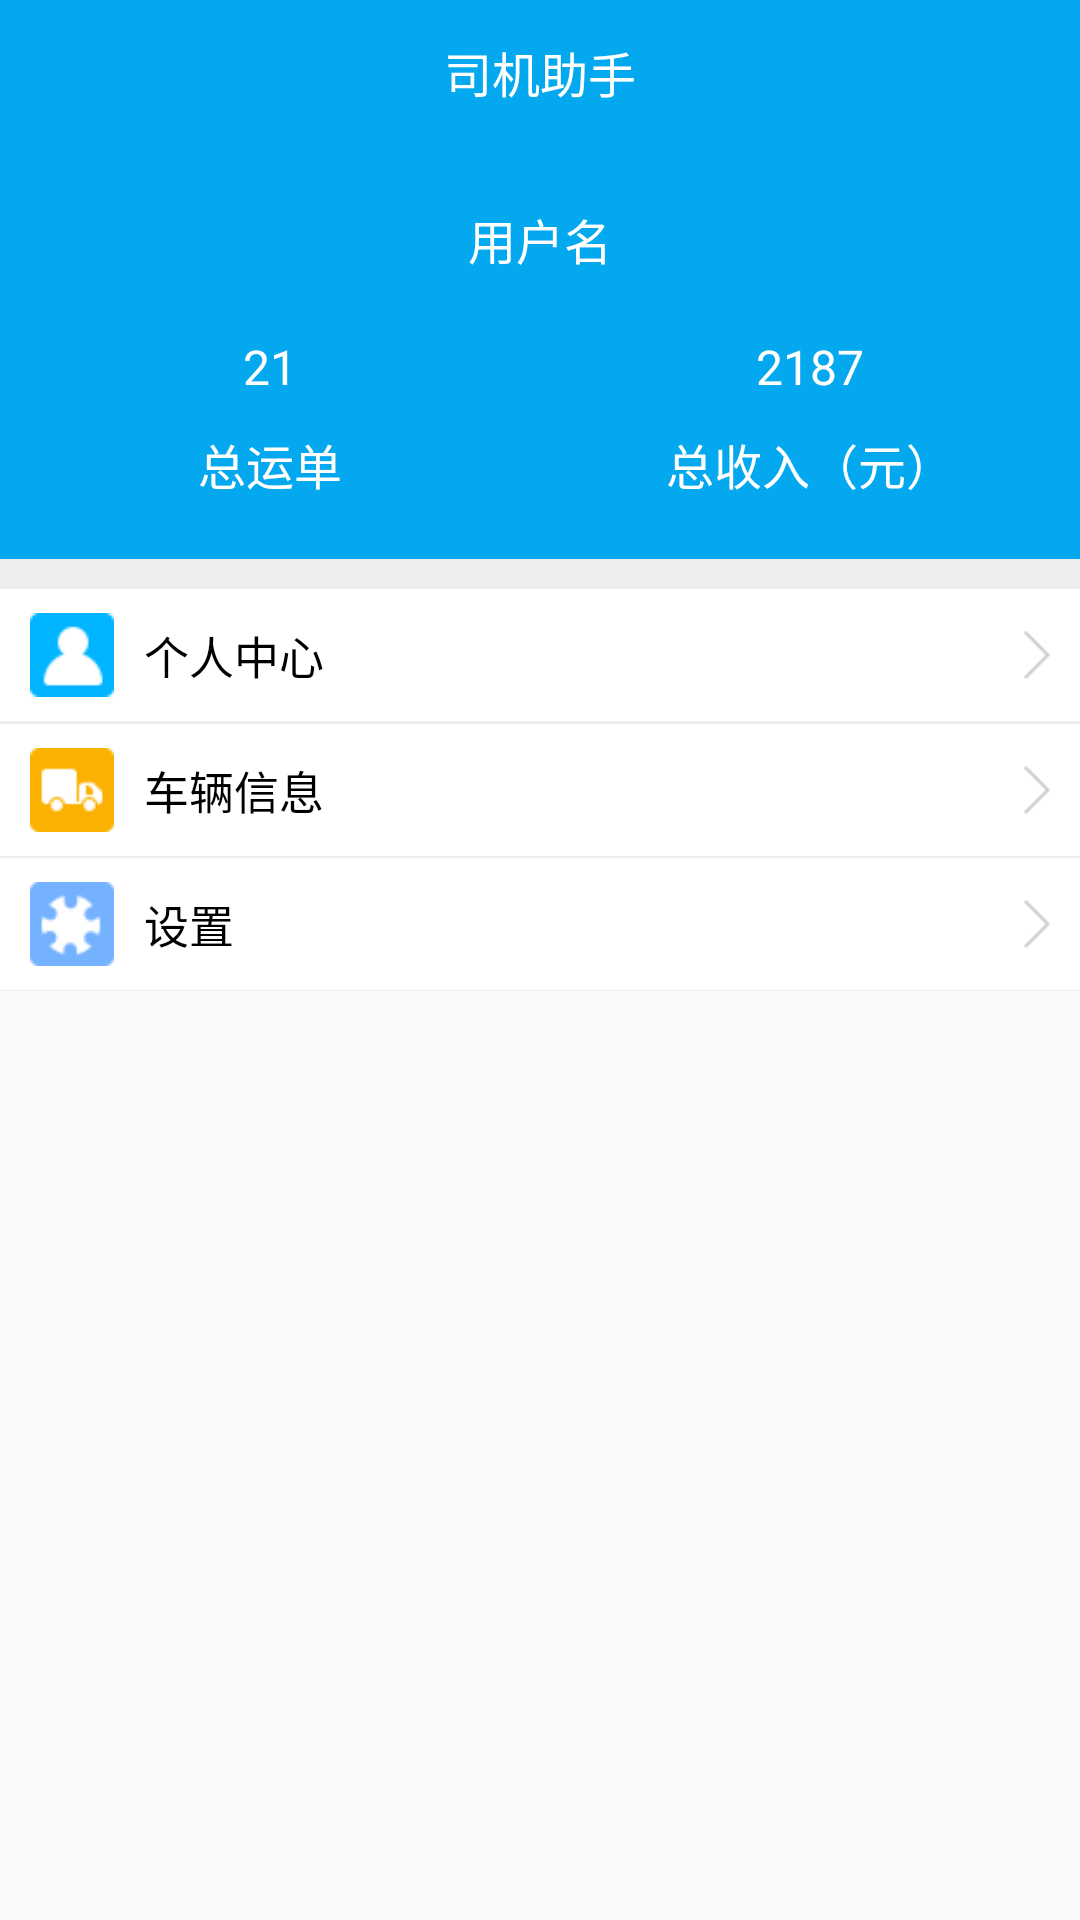

Icons on this 1080 × 1920 Android screen, each with the point to tap as [x,y]:
arrow right: [1037,655], [1037,790], [1037,924]
car info: [72,790]
persion center: [72,655]
setting: [72,924]
